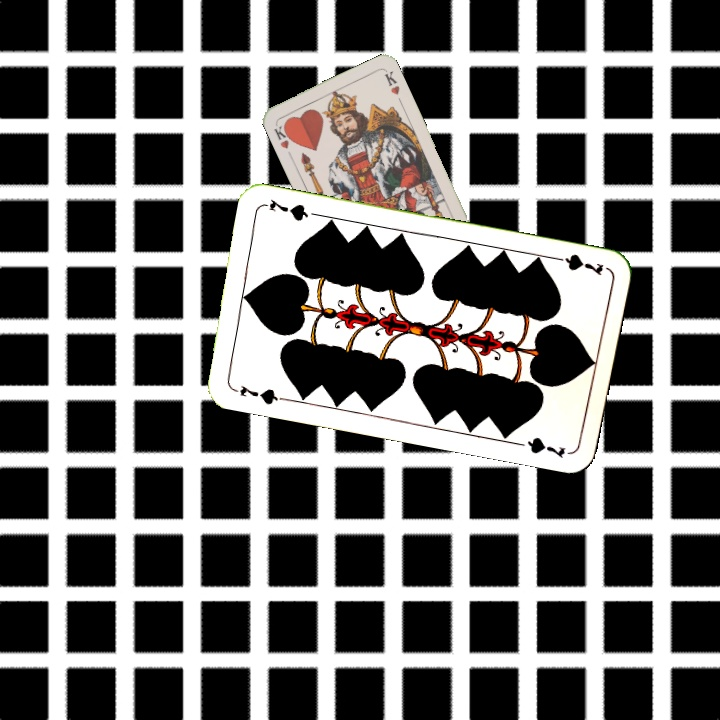G7: (548, 250, 606, 278), (228, 381, 287, 408)
HK: (270, 119, 296, 151)
